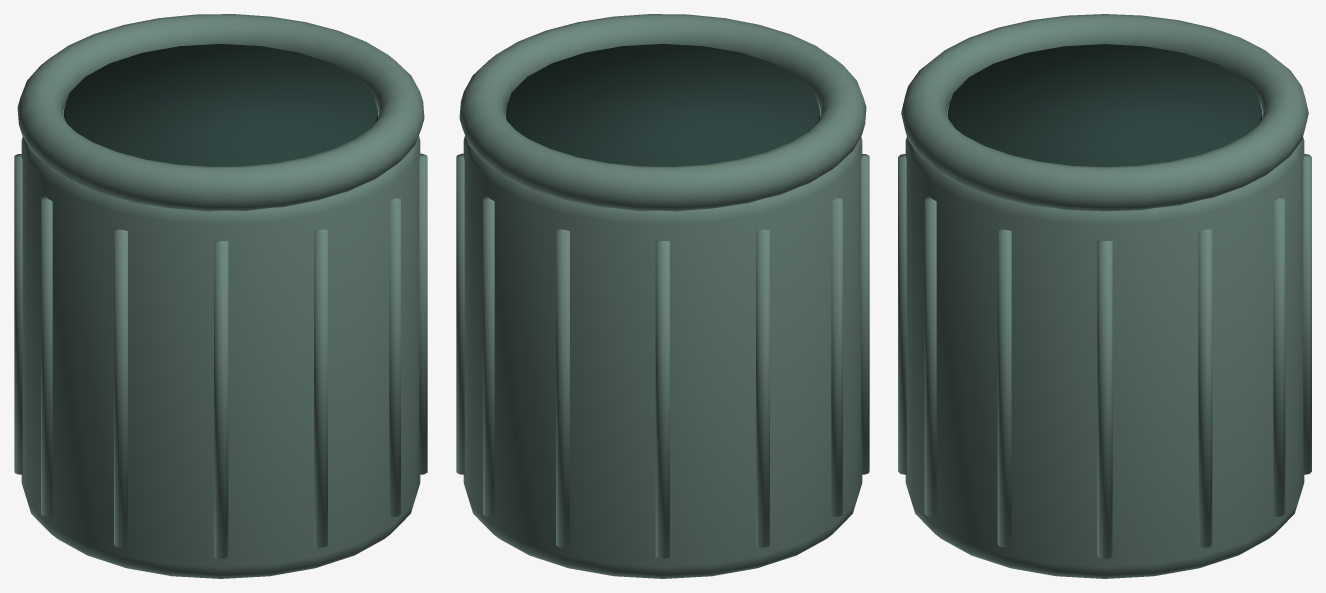
Rendered from trash_can.glb.
3 renders of one model, left to right at view 1: azimuth 30°, elevation 25°; view 2: azimuth 150°, elevation 25°; view 3: azimuth 270°, elevation 25°, orthographic.
Visible parts, largest first — view 1: trash_can_textured_mesh; view 2: trash_can_textured_mesh; view 3: trash_can_textured_mesh.
Part boxes in pixels (x1,y1,x2,y2): trash_can_textured_mesh: (14, 14, 427, 578); trash_can_textured_mesh: (456, 14, 869, 578); trash_can_textured_mesh: (898, 14, 1311, 578).
Bounding box in the file's own units: 1.37 × 1.49 × 1.37.
1 material, 1 textured.
